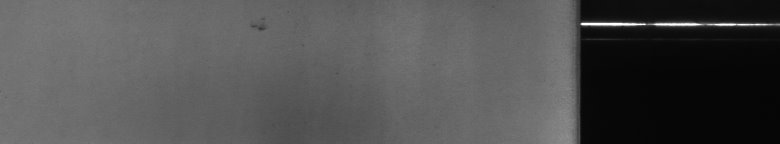fi: (250, 18, 267, 36)
